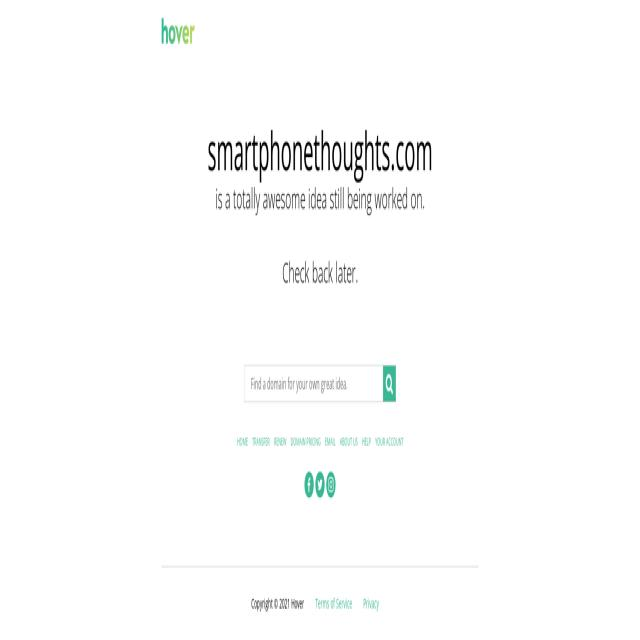button: (161, 17, 195, 45), (383, 366, 396, 402), (304, 472, 314, 498), (315, 472, 325, 498), (326, 472, 336, 498)
field: (244, 365, 383, 402)
